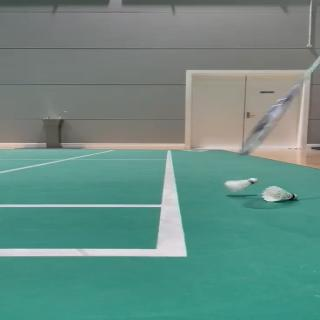Shuttle: (262, 186, 298, 202), (225, 178, 257, 192)
